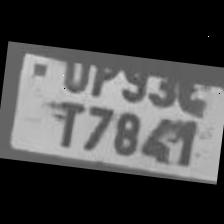1: (164, 111, 201, 167)
3: (144, 58, 178, 106)
4: (136, 108, 177, 164)
7: (74, 96, 113, 154)
8: (106, 102, 144, 158)
9: (115, 54, 150, 102)
P: (85, 50, 120, 98)
T: (40, 92, 84, 148)
U: (55, 46, 93, 94)
